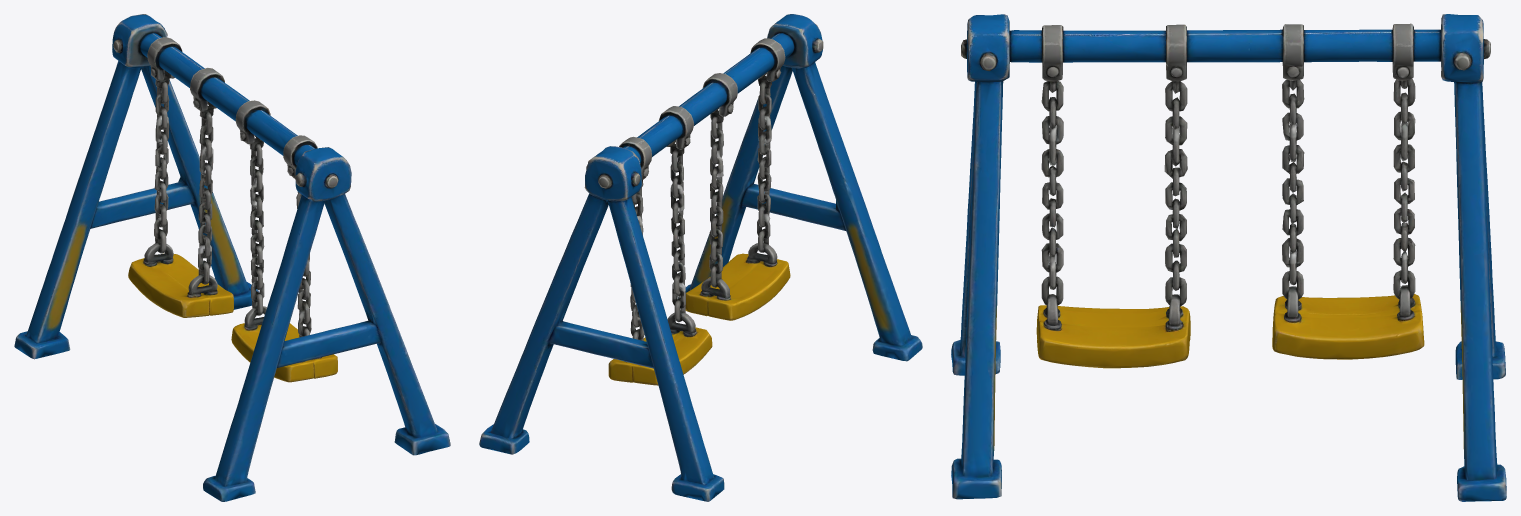
Rendered from hamacas.glb.
The picture shows the model from 3 angles, left to right: view 1: azimuth 30°, elevation 25°; view 2: azimuth 150°, elevation 25°; view 3: azimuth 270°, elevation 25°; orthographic projection. The views are drawn at different scales.
Visible parts, largest first — view 1: tripo_node_8017f88c-c785-478c-a937-8e59548cc0ab; view 2: tripo_node_8017f88c-c785-478c-a937-8e59548cc0ab; view 3: tripo_node_8017f88c-c785-478c-a937-8e59548cc0ab.
Boxes of the visible parts, bbox=[...] form: tripo_node_8017f88c-c785-478c-a937-8e59548cc0ab: bbox=[14, 14, 450, 501]; tripo_node_8017f88c-c785-478c-a937-8e59548cc0ab: bbox=[479, 14, 922, 501]; tripo_node_8017f88c-c785-478c-a937-8e59548cc0ab: bbox=[951, 14, 1506, 501].
Size of the model in its own units: 0.6399 by 0.8078 by 1.
1 material, 1 textured.
